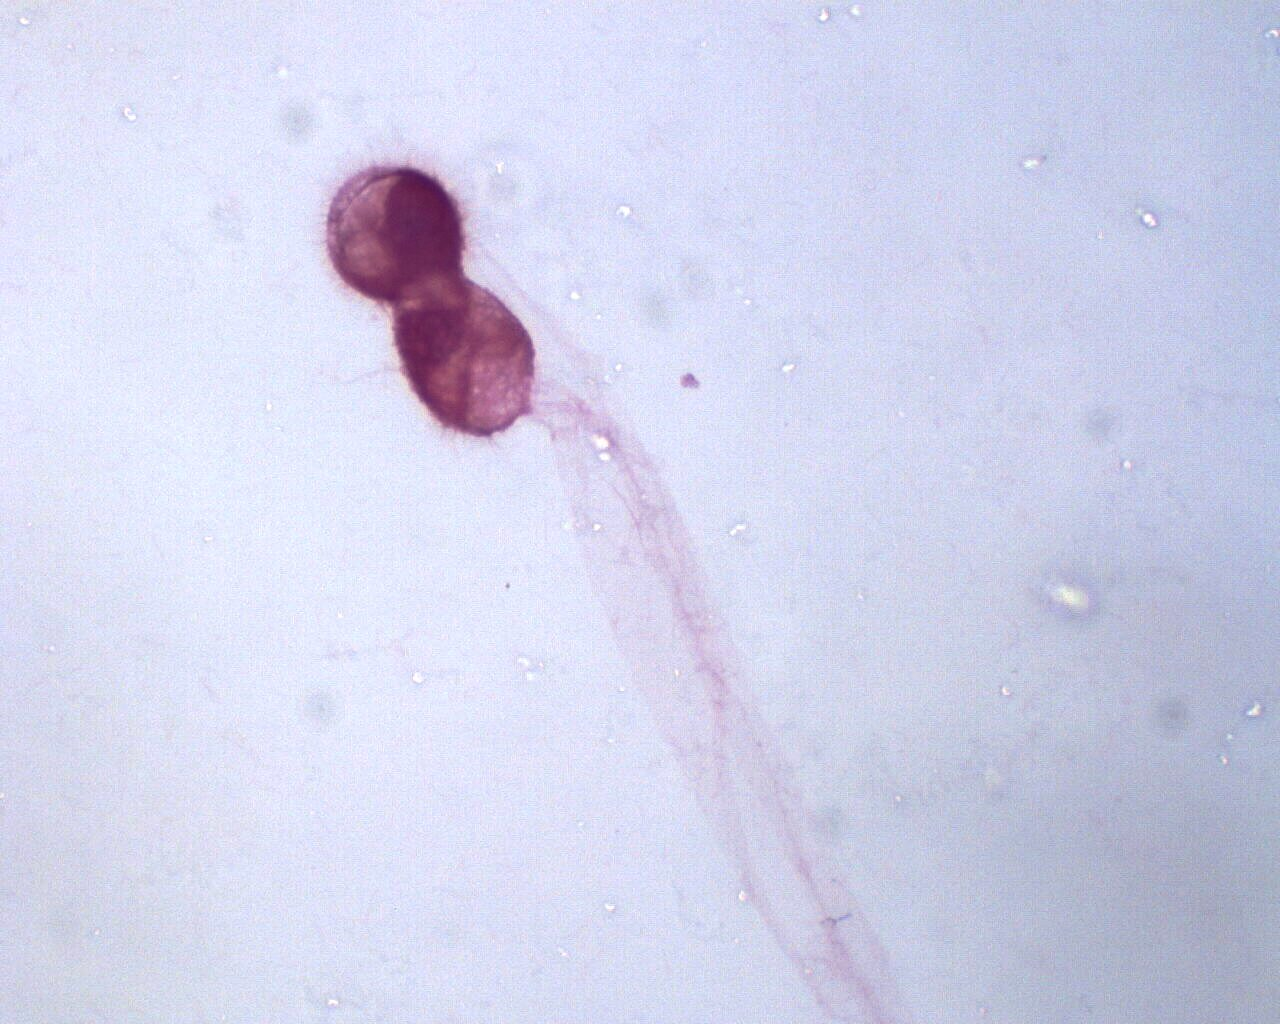ab: (386, 281, 538, 444), (325, 160, 468, 302)
